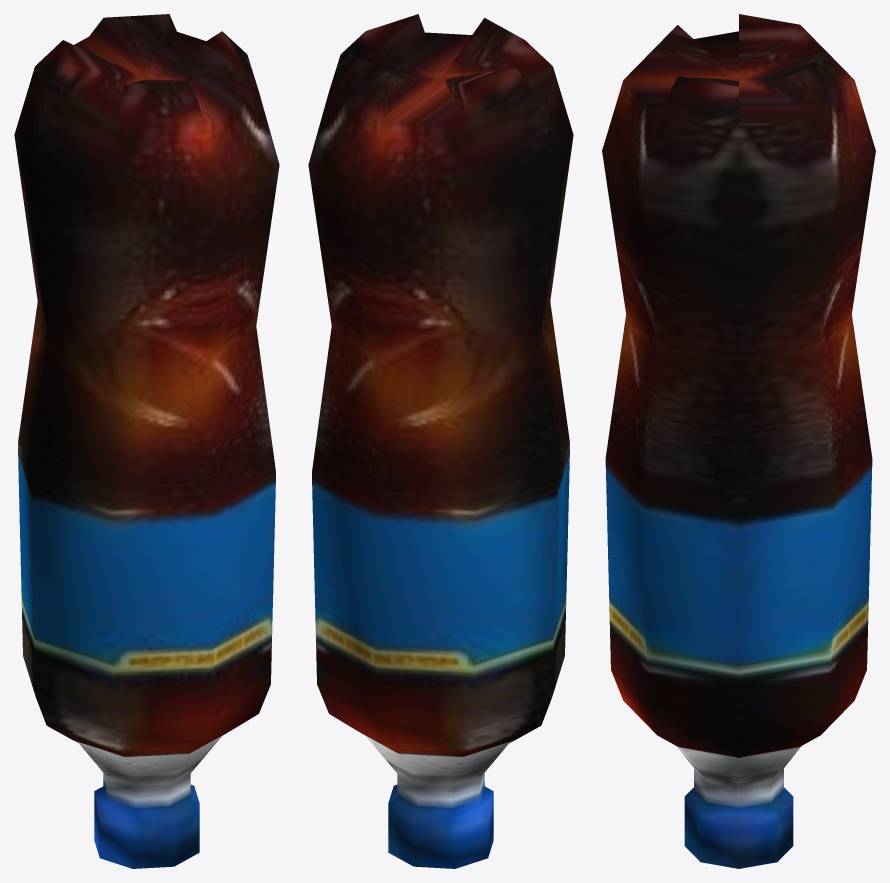
The model's file is Soda_13-col.glb.
The picture shows the model from 3 angles, left to right: view 1: azimuth 30°, elevation 25°; view 2: azimuth 150°, elevation 25°; view 3: azimuth 270°, elevation 25°; orthographic projection.
Visible parts, largest first — view 1: Soda_13-col; view 2: Soda_13-col; view 3: Soda_13-col.
Boxes of the visible parts, left/top/right/bottom form: Soda_13-col: left=14, top=14, right=279, bottom=868; Soda_13-col: left=308, top=14, right=573, bottom=868; Soda_13-col: left=602, top=14, right=875, bottom=868.
Bounding box in the file's own units: 0.143 × 0.4581 × 0.143.
Materials: 1 (1 with a texture image).
